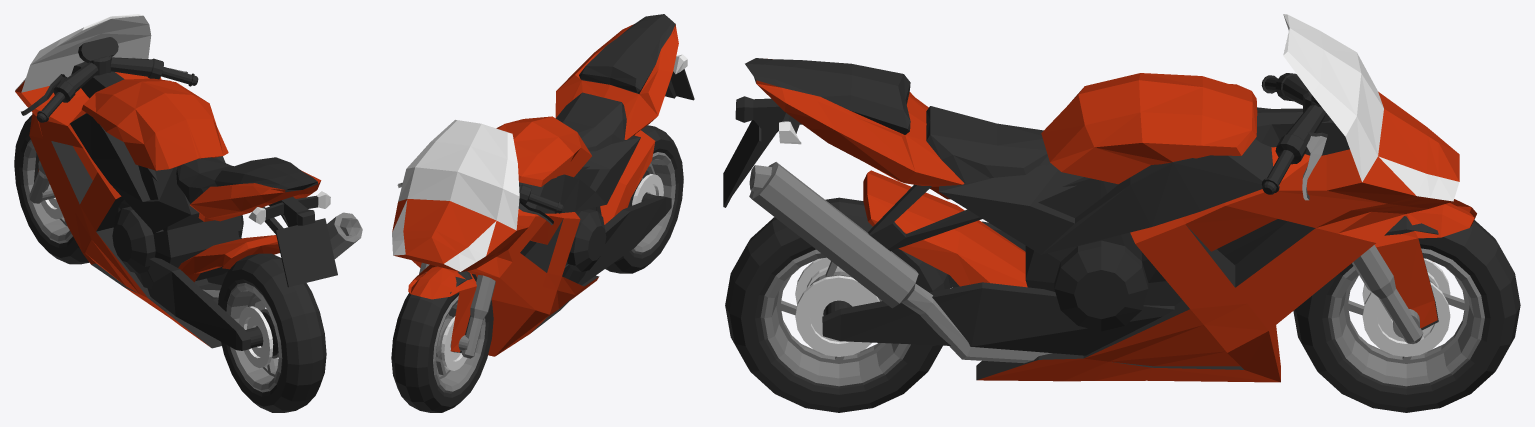
File: motorcycle.glb
The picture shows the model from 3 angles, left to right: view 1: azimuth 30°, elevation 25°; view 2: azimuth 150°, elevation 25°; view 3: azimuth 270°, elevation 25°; orthographic projection. The views are drawn at different scales.
Parts seen in each view (by area): view 1: Motorcycle; view 2: Motorcycle; view 3: Motorcycle.
Boxes of the visible parts, box(x1,y1,x2,y2) form: Motorcycle: box(14, 14, 362, 412); Motorcycle: box(391, 14, 694, 412); Motorcycle: box(723, 14, 1520, 412).
Bounding box in the file's own units: 42.86 × 67.18 × 127.
1 material, 1 textured.
